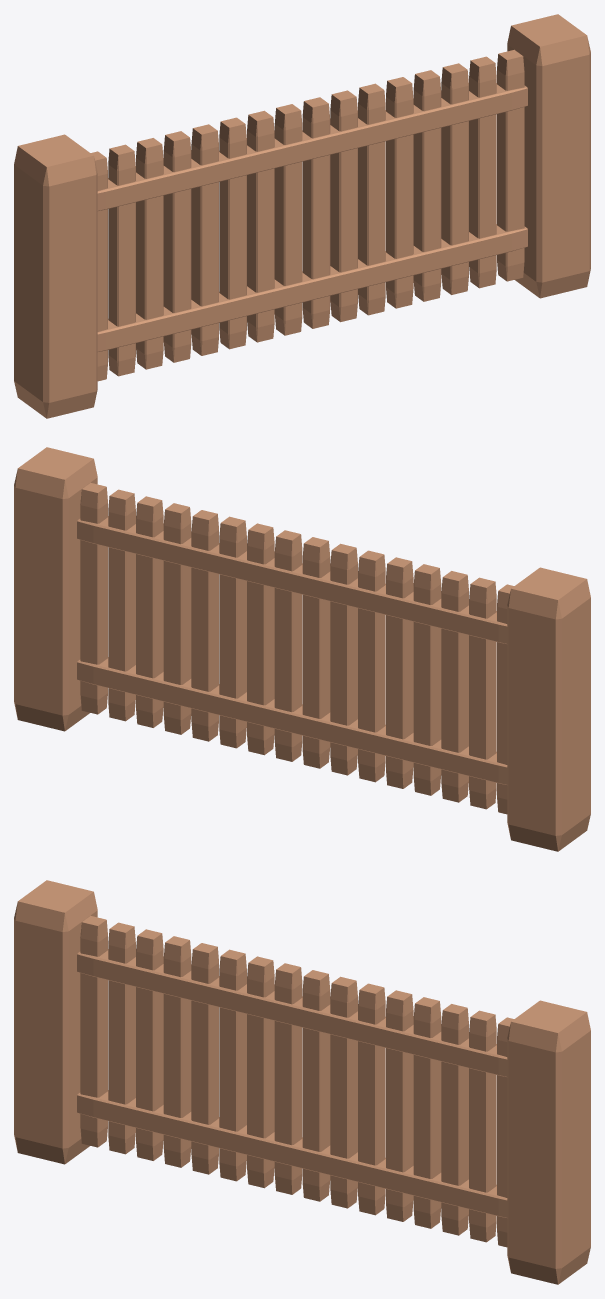
Rendered from b19_split_rail_field_gate.glb.
The picture shows the model from 3 angles, top to bottom: view 1: azimuth 30°, elevation 25°; view 2: azimuth 150°, elevation 25°; view 3: azimuth 330°, elevation 25°; orthographic projection.
Visible parts, largest first — view 1: b19_split_rail_field_gate; view 2: b19_split_rail_field_gate; view 3: b19_split_rail_field_gate.
Boxes of the visible parts, x1=… form: b19_split_rail_field_gate: x1=14, y1=14, x2=590, y2=418; b19_split_rail_field_gate: x1=14, y1=447, x2=590, y2=851; b19_split_rail_field_gate: x1=14, y1=880, x2=590, y2=1284.
Bounding box in the file's own units: 3.19 × 1.4 × 0.34.
